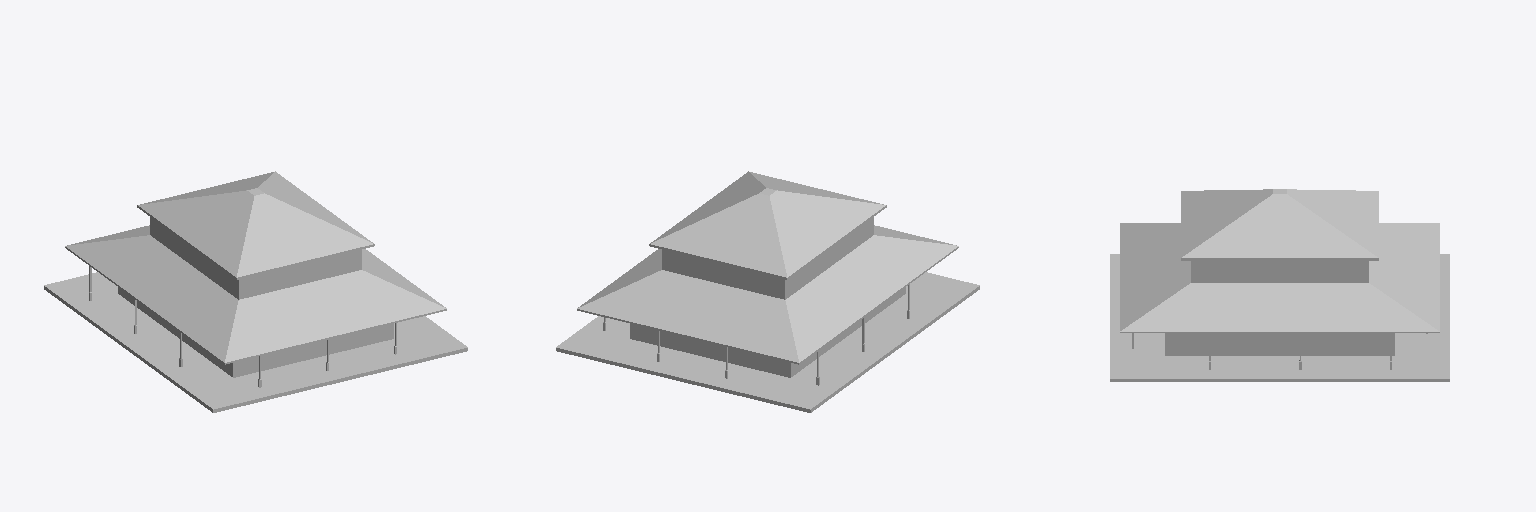
The model's file is house.obj.
3 views of the same model, side by side, from view 1: azimuth 30°, elevation 25°; view 2: azimuth 150°, elevation 25°; view 3: azimuth 270°, elevation 25° (orthographic).
Visible parts, largest first — view 1: Temple_2; view 2: Temple_2; view 3: Temple_2.
Part boxes in pixels (x1,y1,x2,y2): Temple_2: (44, 171, 467, 412); Temple_2: (556, 171, 979, 412); Temple_2: (1110, 189, 1449, 381).
Bounding box in the file's own units: 711 × 342 × 820.